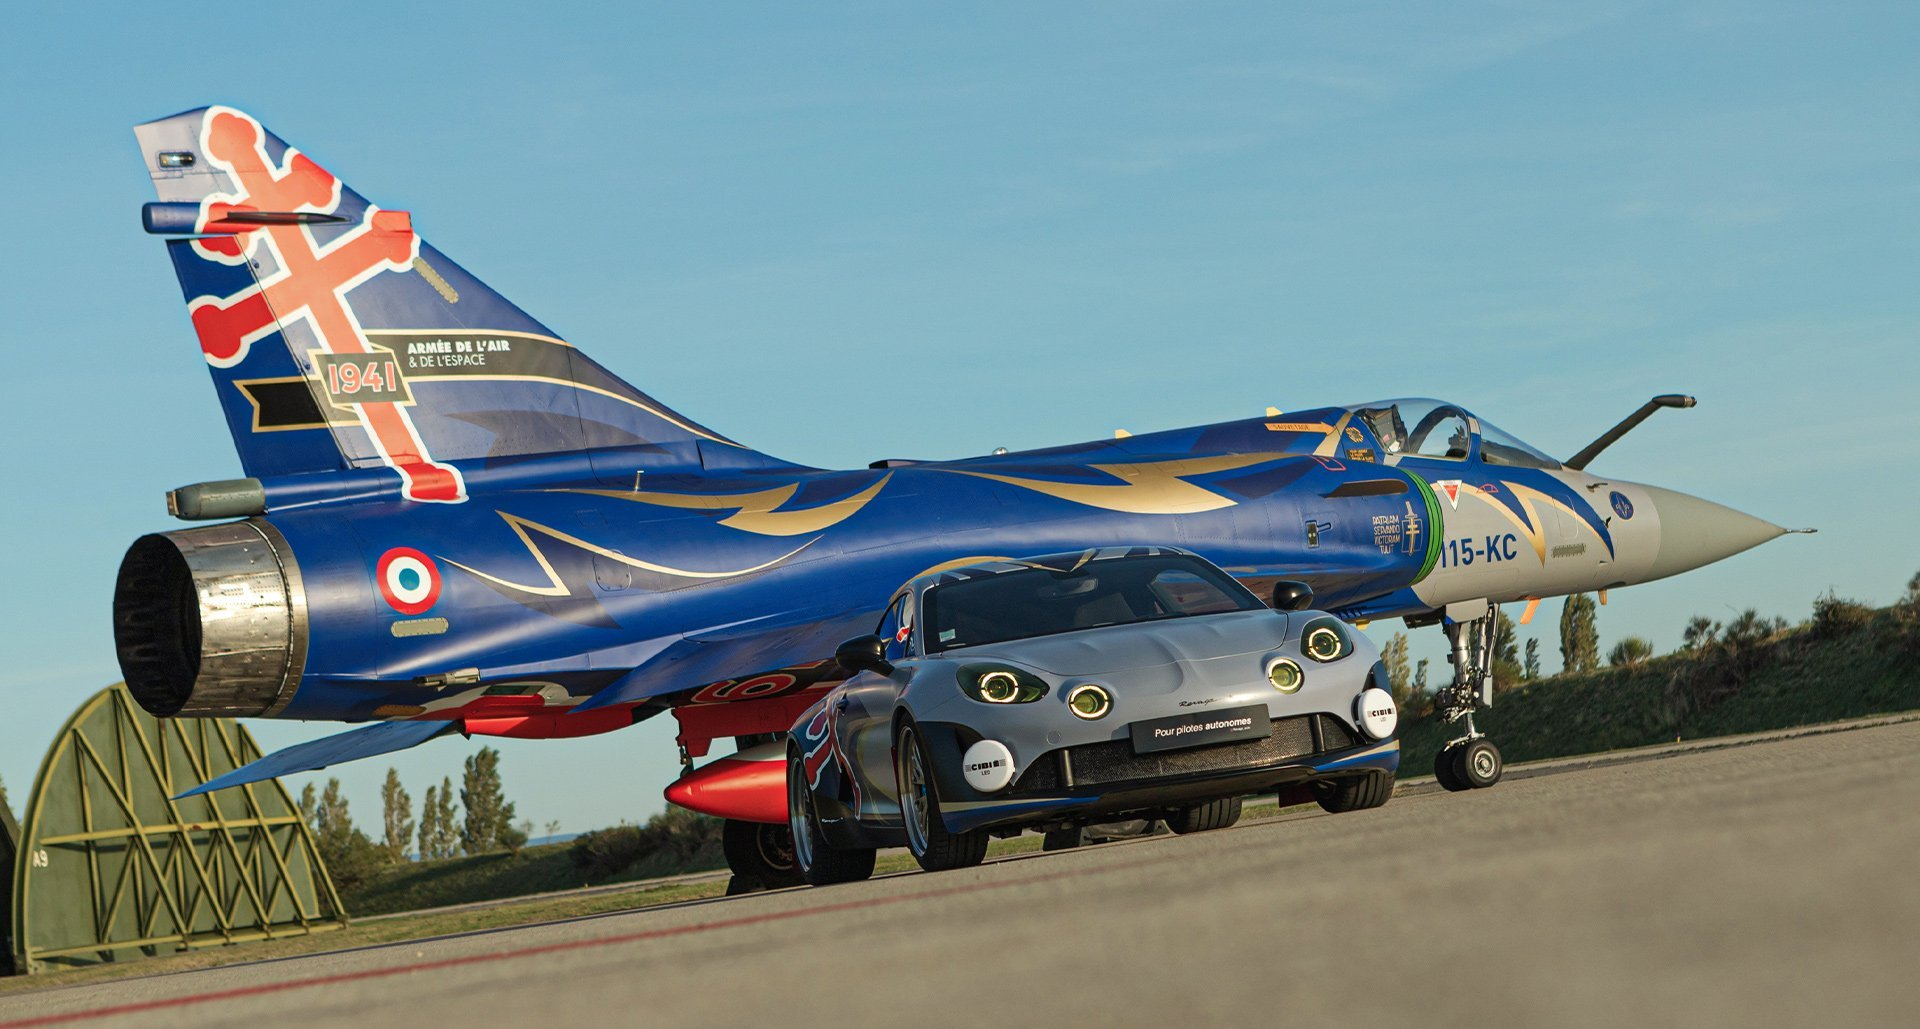Mirage2000: (110, 104, 1818, 891)
